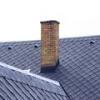chimneys: (40, 19, 60, 73)
